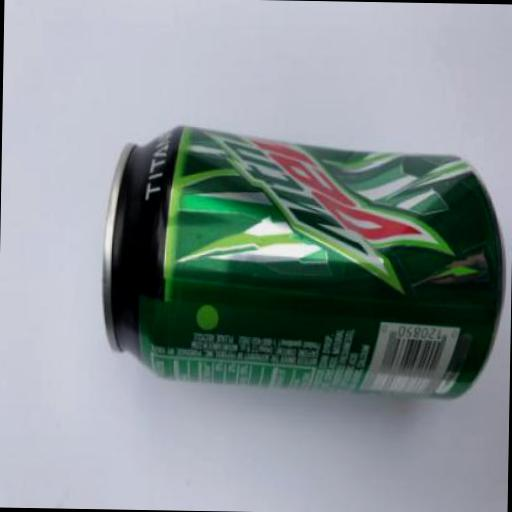metal: (98, 121, 508, 400)
